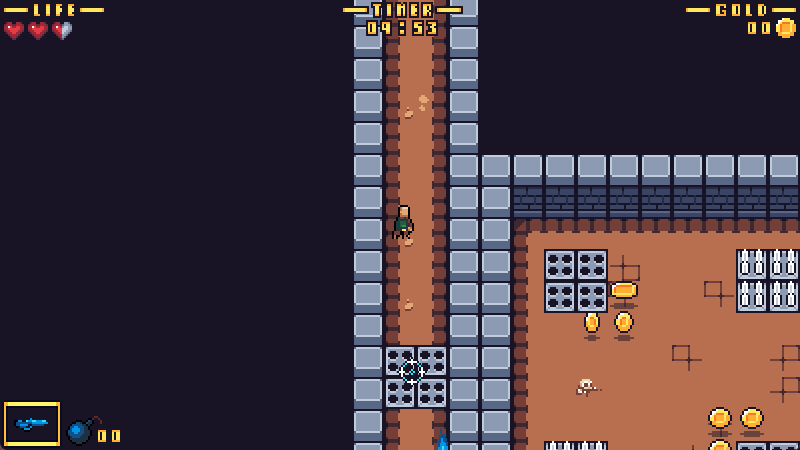aim: (397, 358, 426, 388)
gold: (740, 405, 764, 431), (709, 405, 733, 428), (613, 310, 635, 335), (610, 280, 637, 299), (580, 308, 598, 329)
health-1: (1, 18, 76, 42)
player: (390, 202, 416, 242)
timer: (344, 1, 463, 35)
trap_off: (544, 250, 606, 312), (384, 346, 447, 407)
trap_on: (736, 249, 799, 310)
